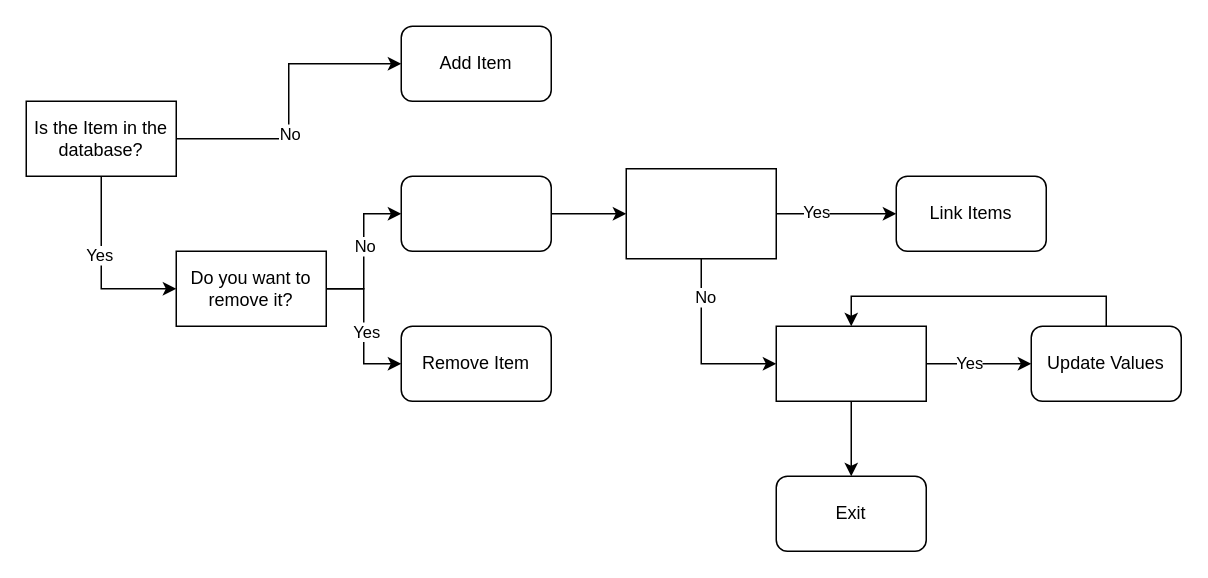
This 1208x578 diagram has some shape labels left out. The box of each missing label's shape, as (x1, y1, x2, y2) in pixels:
Do you want to link/unlink it to/from other items?: (625, 167, 776, 259)
Do you want to update item status/values?: (775, 325, 926, 401)
Modify Item: (400, 175, 551, 251)
